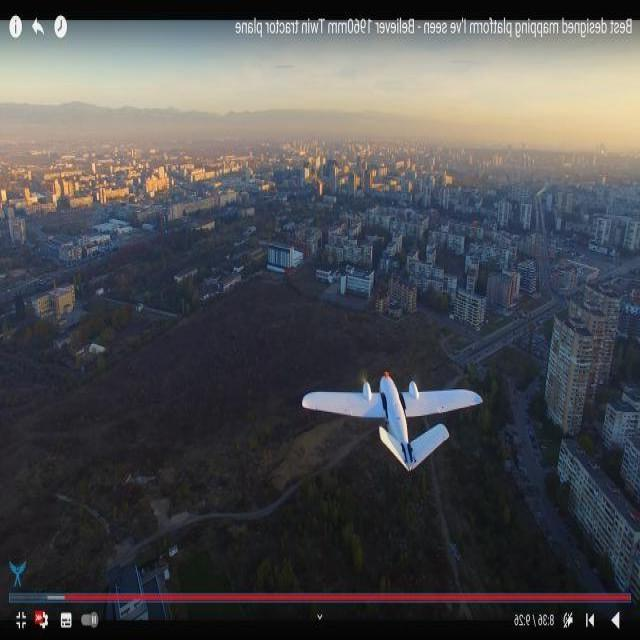Airplane: (298, 362, 496, 477)
